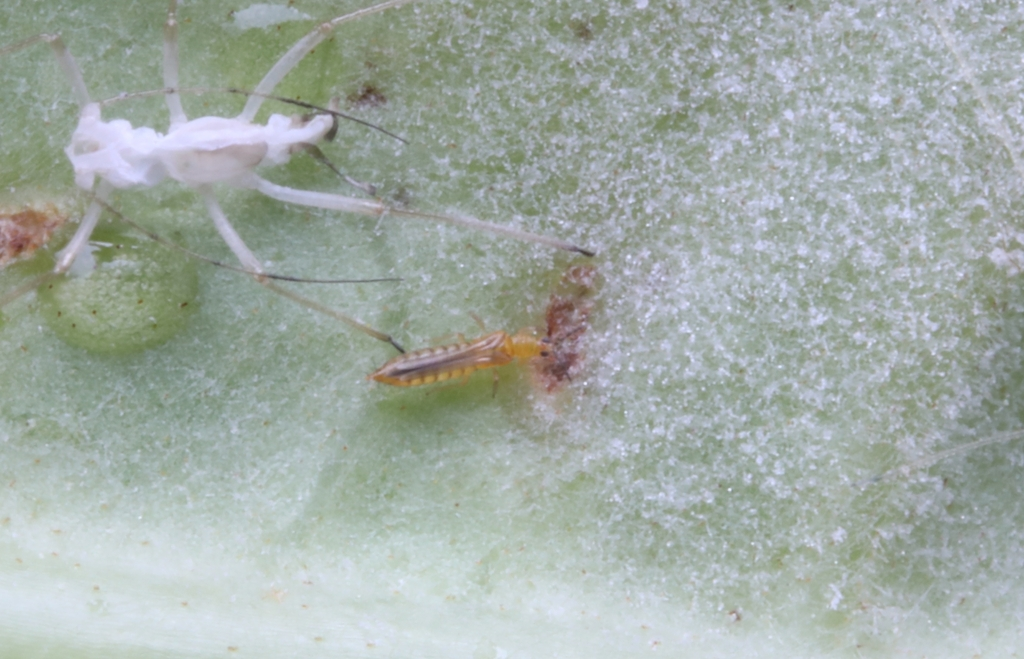tiny_pests: (279, 218, 729, 468)
